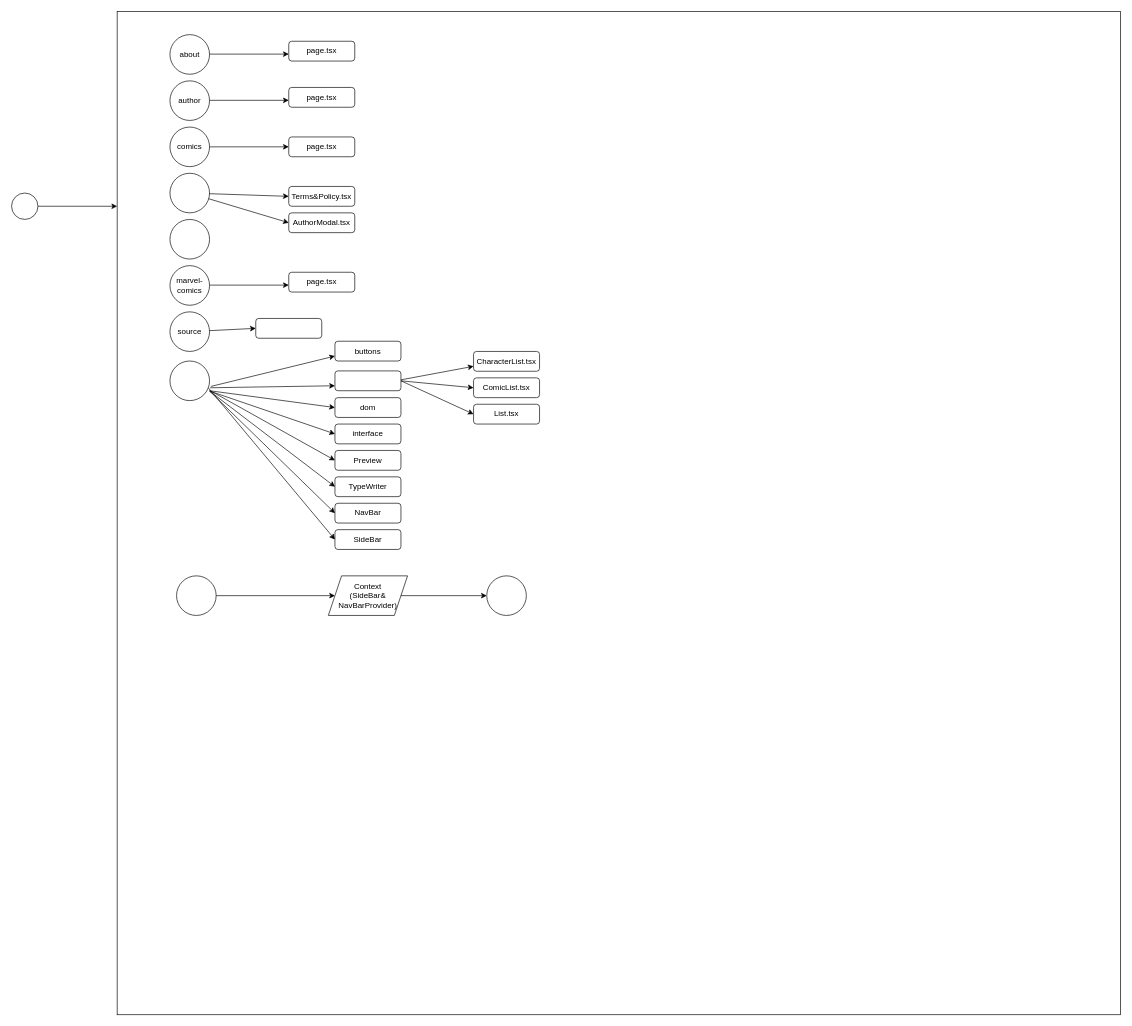
Image size: 1132x1026. Some labels were removed from this diagram. The centre of each missing label's shape, as x and y in pixels:
App: the point at 24,205
characters: the point at 189,239
comp: the point at 189,380
datalist/content: the point at 367,380
Layout: the point at 196,595
modal: the point at 189,193
options.tsx (fetched-apis): the point at 288,328
{children}: the point at 506,595
